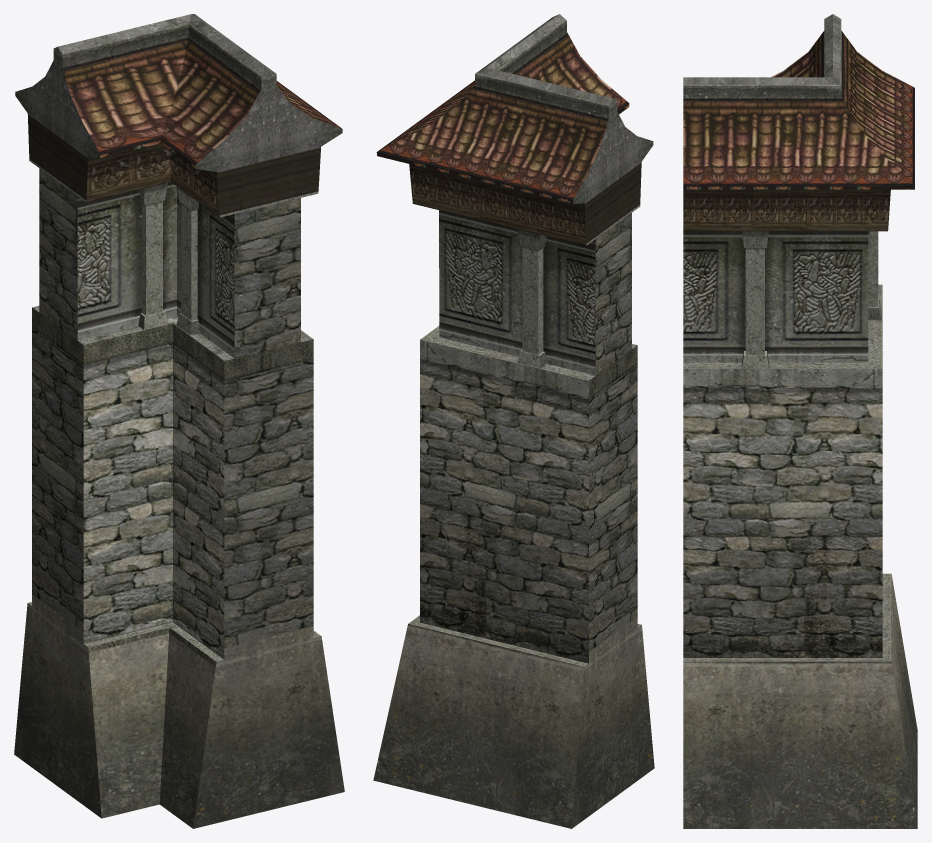
Rendered from a1-middledam-05.fbx.
3 renders of one model, left to right at view 1: azimuth 30°, elevation 25°; view 2: azimuth 150°, elevation 25°; view 3: azimuth 270°, elevation 25°, orthographic. The views are drawn at different scales.
Visible parts, largest first — view 1: Object04; view 2: Object04; view 3: Object04.
Part boxes in pixels (<box>): Object04: <box>14,14,344,828</box>; Object04: <box>373,14,654,828</box>; Object04: <box>683,14,917,828</box>.
Bounding box in the file's own units: 2.35 × 7.92 × 2.35.
